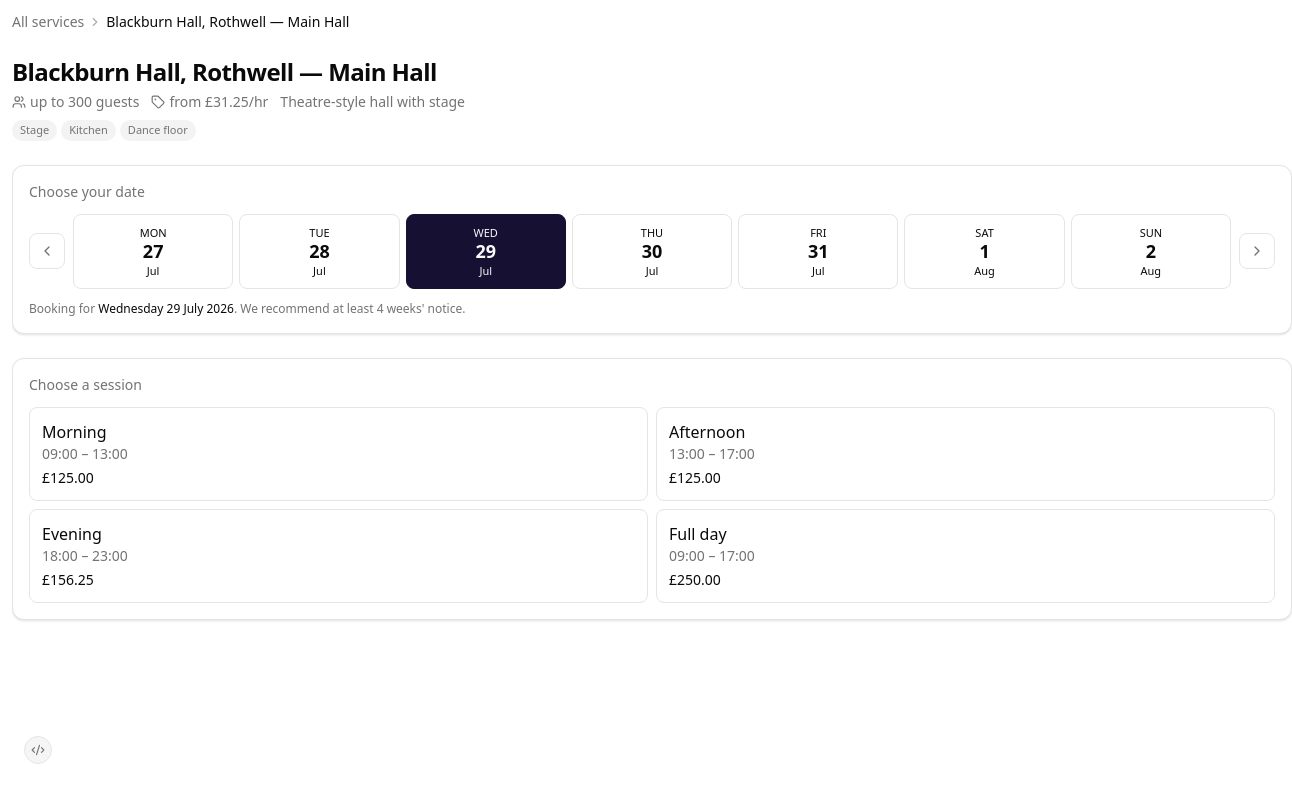
VenueHireBooking › changing the date clears the selected session
Click the text "Morning".
click(74, 432)  # box [42, 420, 106, 444]
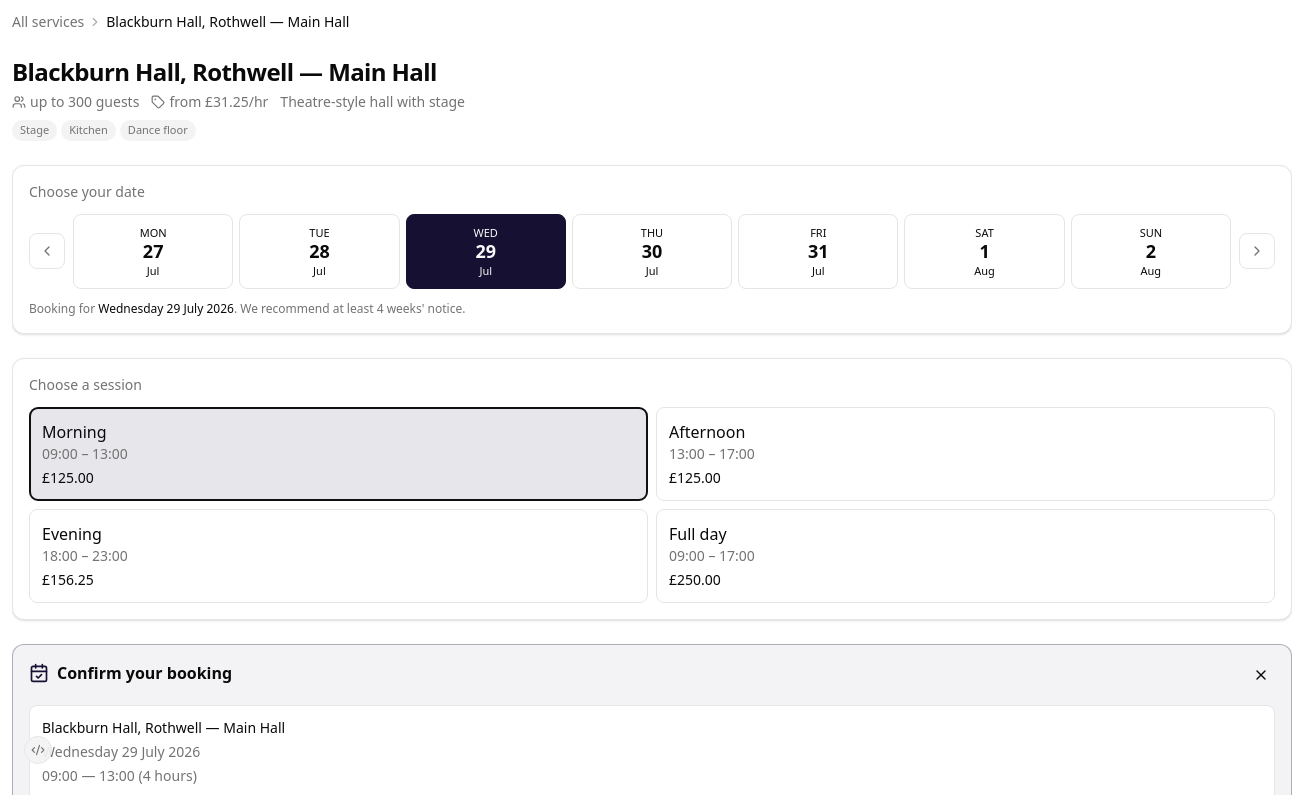
Result: the heading "Confirm your booking" is shown at [57, 661, 232, 685]
// Paging to next week triggers handleDateChange → session cleared
Click the button named "Next week".
click(1257, 252)  # box [1239, 234, 1275, 270]
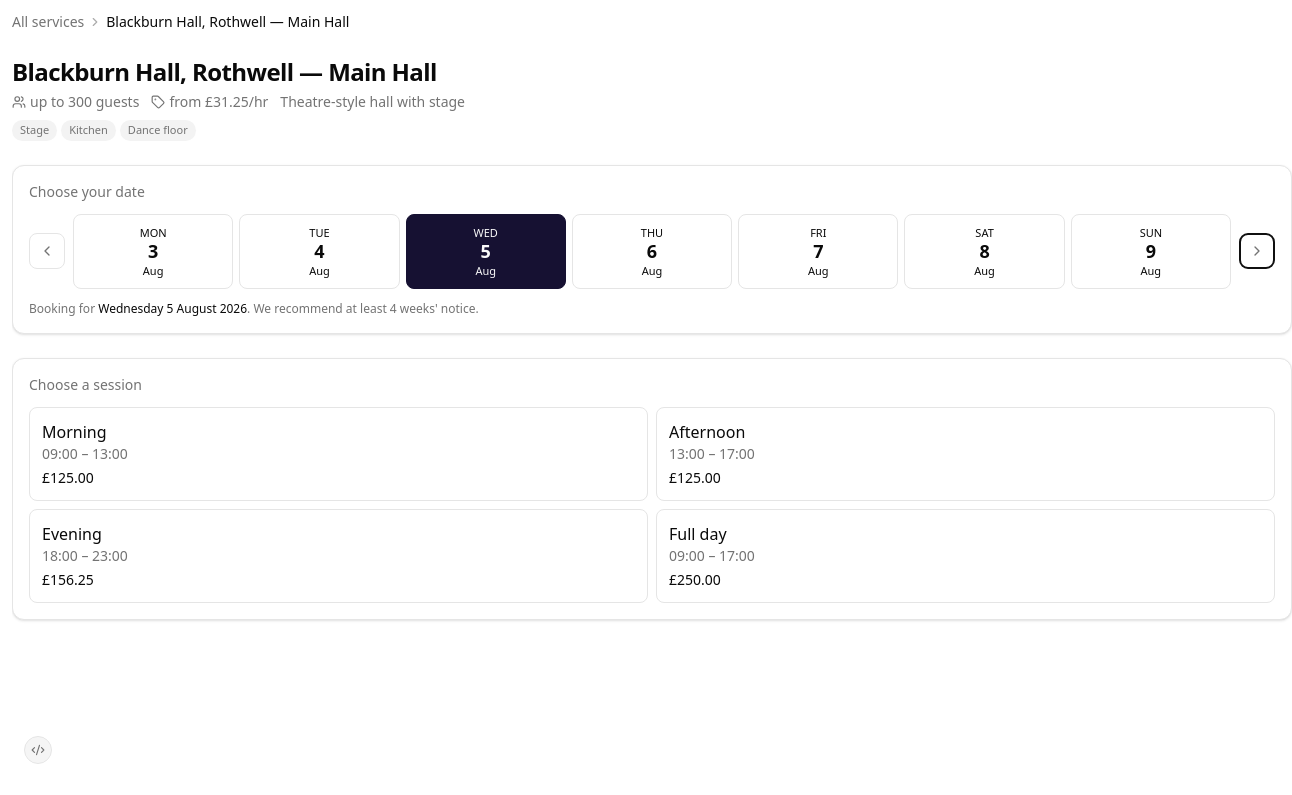
Result: the heading "Confirm your booking" is gone
